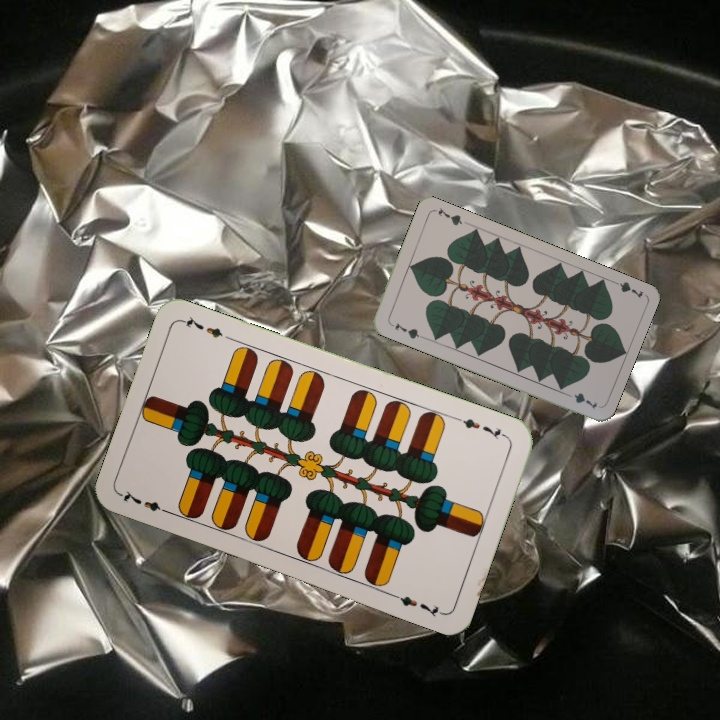E7: (117, 486, 174, 517), (452, 413, 510, 443)
G7: (606, 275, 646, 301), (391, 319, 425, 342)
